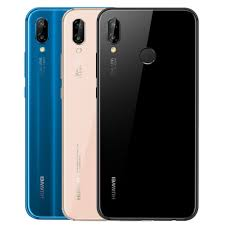huawei: (92, 5, 199, 220)
